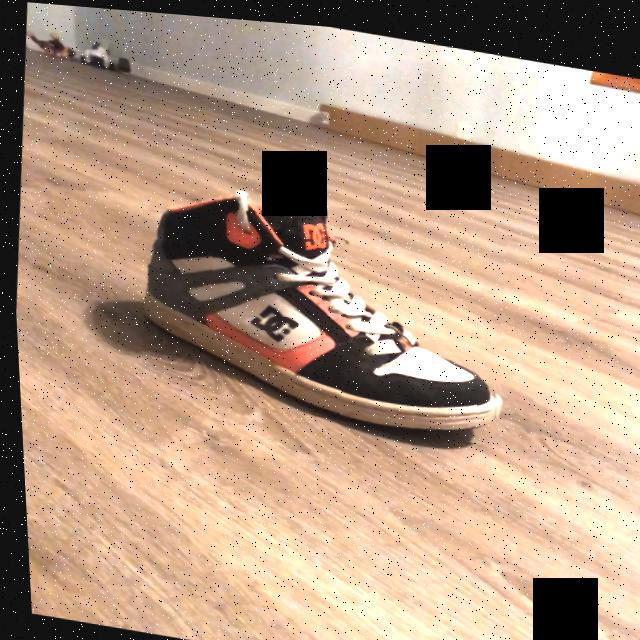shoe: (140, 189, 494, 431)
